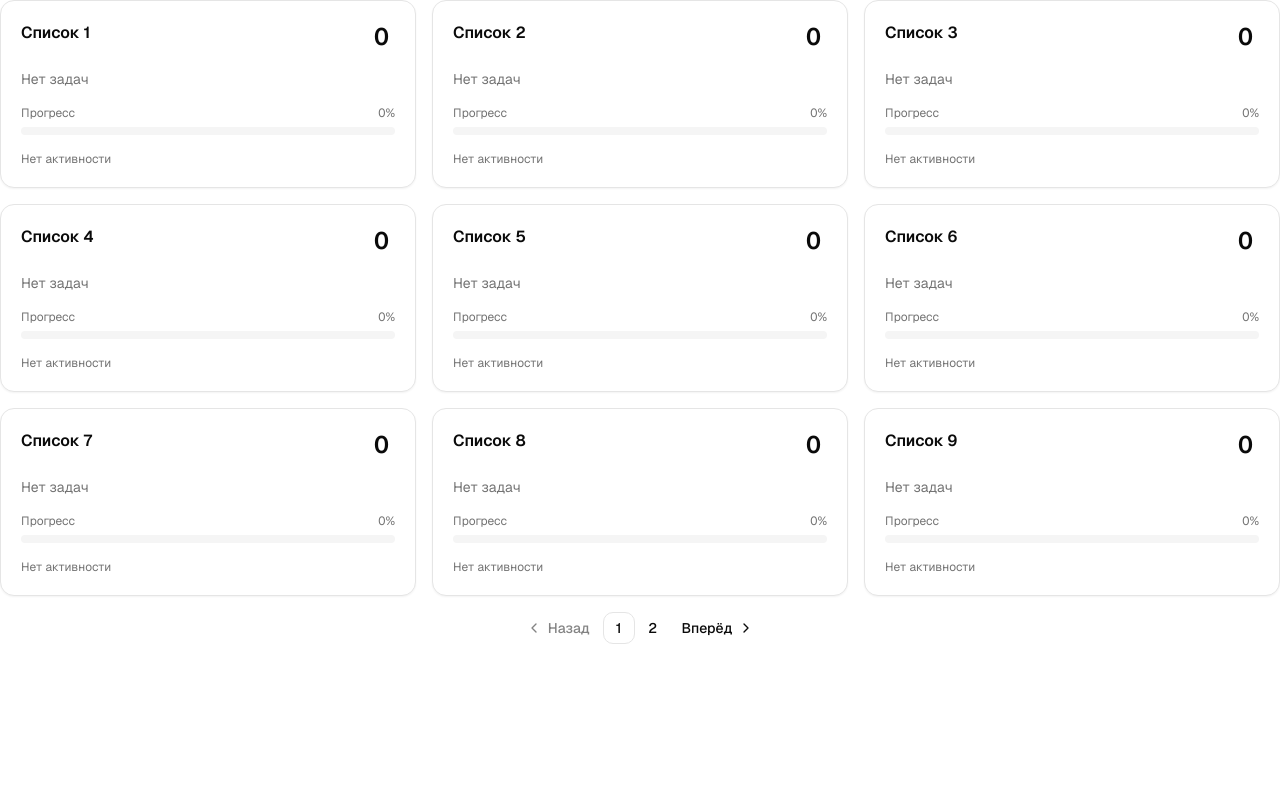
ListsSection › paginates when there are more lists than one page
Expected: the heading "Список 10" is not shown
Click the button with aria-label "Следующая страница".
click(716, 628)  # box x1=671 y1=612 x2=761 y2=644
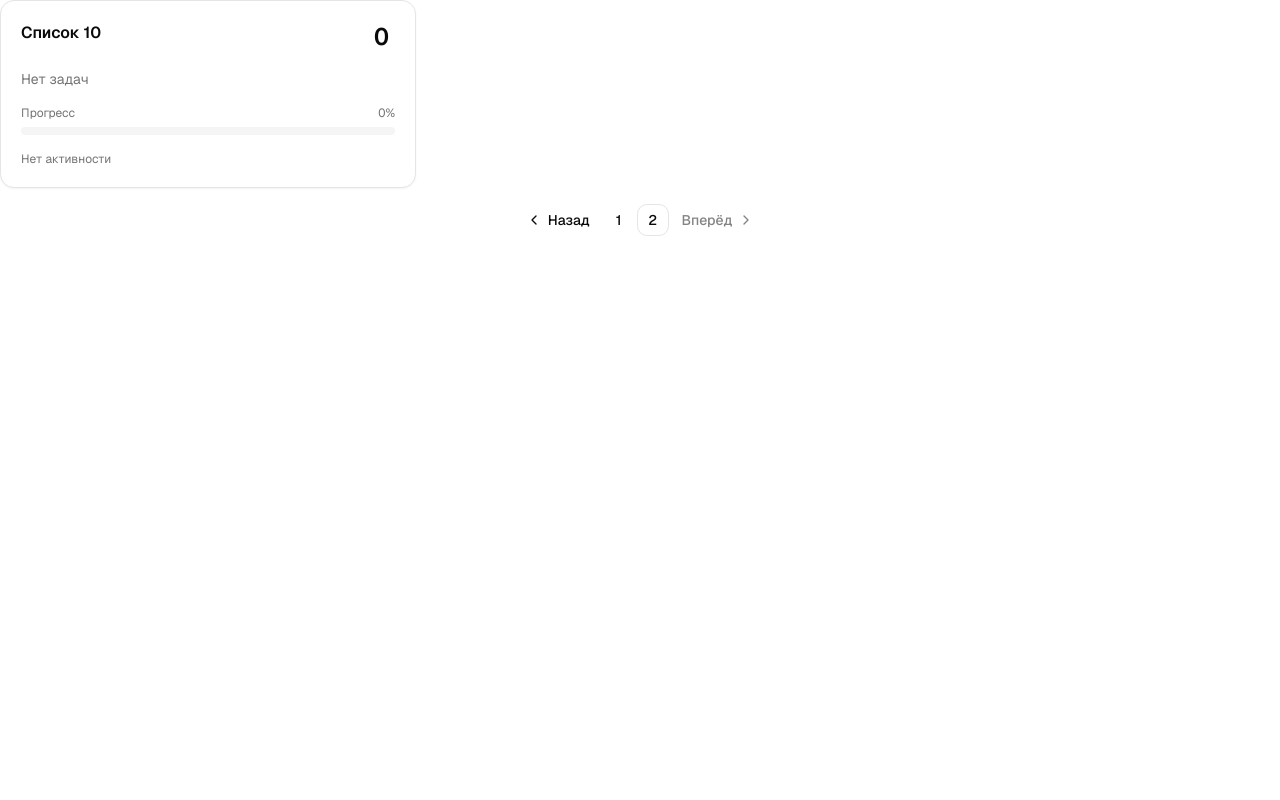
Result: the number of links with test id "list-card" is 1 at x1=0 y1=0 x2=416 y2=188
Result: the heading "Список 10" is shown at x1=21 y1=21 x2=101 y2=45
